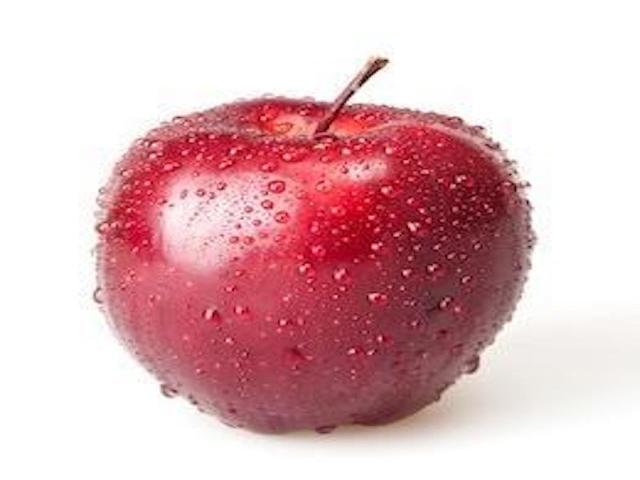apple: (84, 47, 539, 441)
